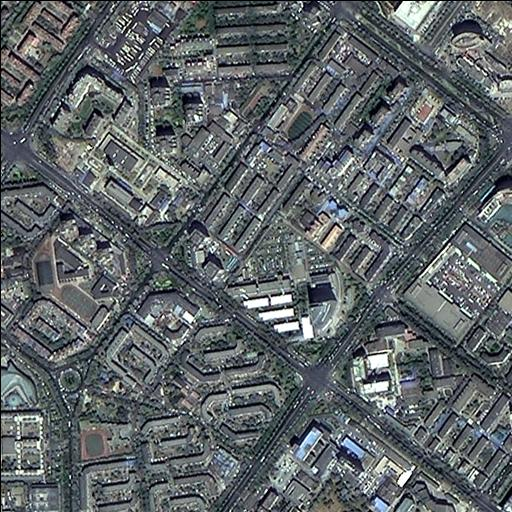school: (25, 206, 155, 335), (265, 95, 328, 148), (75, 416, 134, 464)
